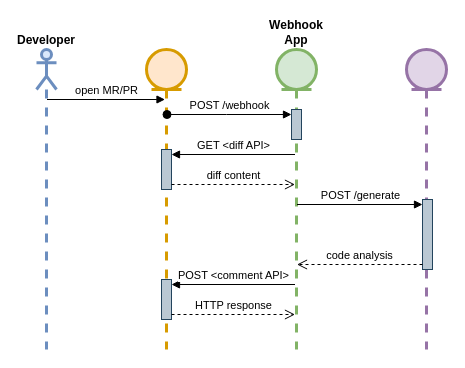
This 465x368 diagram has some shape labels left out. Here are the shapes that lost their labels. From the top down, the centre of each, then its label:
At (x=166, y=199): "Gitlab/Github".
At (x=426, y=199): "Ollama".
